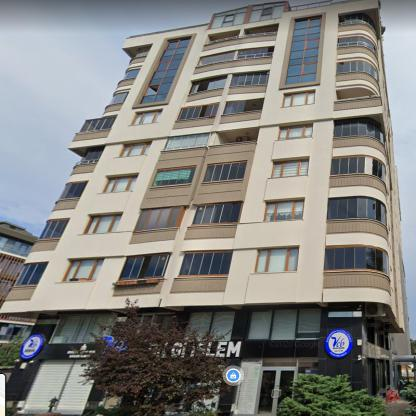door: (254, 366, 298, 416)
window: (137, 36, 192, 104), (284, 15, 321, 85), (247, 308, 322, 340), (324, 245, 389, 276), (326, 197, 388, 226), (51, 314, 112, 342), (330, 156, 385, 182), (134, 205, 185, 232), (118, 253, 170, 279), (334, 117, 384, 144), (178, 251, 232, 276), (192, 202, 242, 226), (60, 258, 104, 282), (256, 247, 298, 272), (189, 312, 234, 334), (263, 199, 304, 222), (152, 166, 196, 187), (203, 161, 247, 182), (336, 60, 378, 82), (83, 213, 123, 234), (210, 7, 246, 29), (164, 133, 210, 150), (271, 157, 308, 178), (189, 74, 227, 94), (338, 36, 376, 56), (13, 263, 46, 286), (338, 13, 375, 33), (249, 1, 284, 22), (178, 103, 220, 120), (100, 175, 138, 193), (57, 180, 88, 202), (0, 237, 32, 257), (282, 89, 315, 107), (39, 219, 68, 239), (197, 51, 235, 66), (117, 141, 152, 157), (278, 124, 312, 140), (131, 109, 162, 126), (237, 46, 274, 60), (80, 117, 116, 131), (231, 73, 267, 86), (81, 146, 105, 164), (222, 101, 246, 114), (110, 92, 128, 104), (122, 69, 140, 80), (135, 46, 151, 56)
